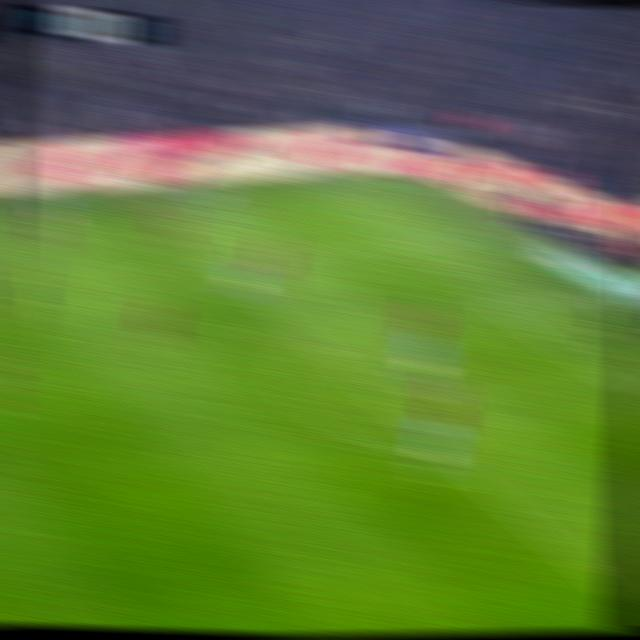bigarea_top_inner: (205, 256, 236, 276)
bigarea_top_outter: (464, 229, 495, 247)
bottom_arc_area_intersection: (437, 451, 471, 473)
corner: (363, 176, 394, 188)
smallarea_top_inner: (479, 294, 513, 321)
smallarea_top_outter: (568, 287, 600, 305)
top_arc_area_intersection: (296, 331, 332, 357)
